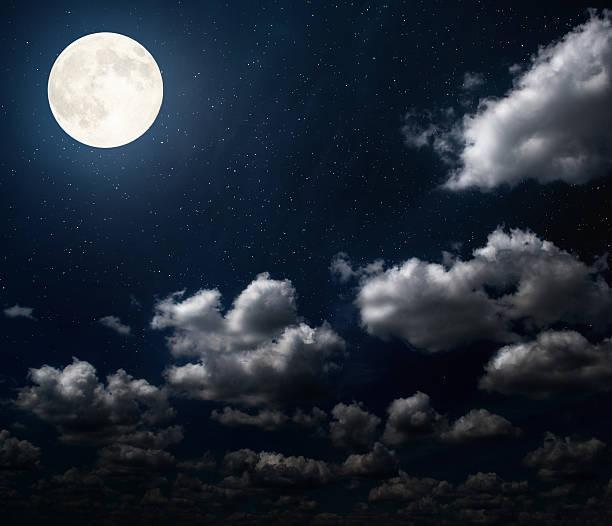moon: (33, 26, 168, 152)
